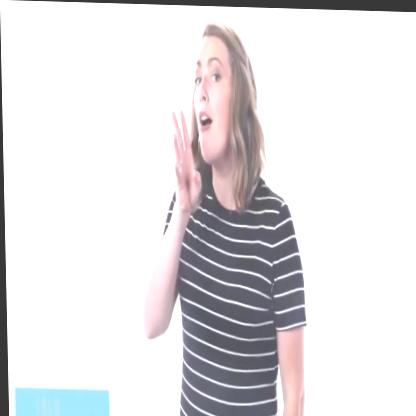Talk: (158, 5, 266, 267)
